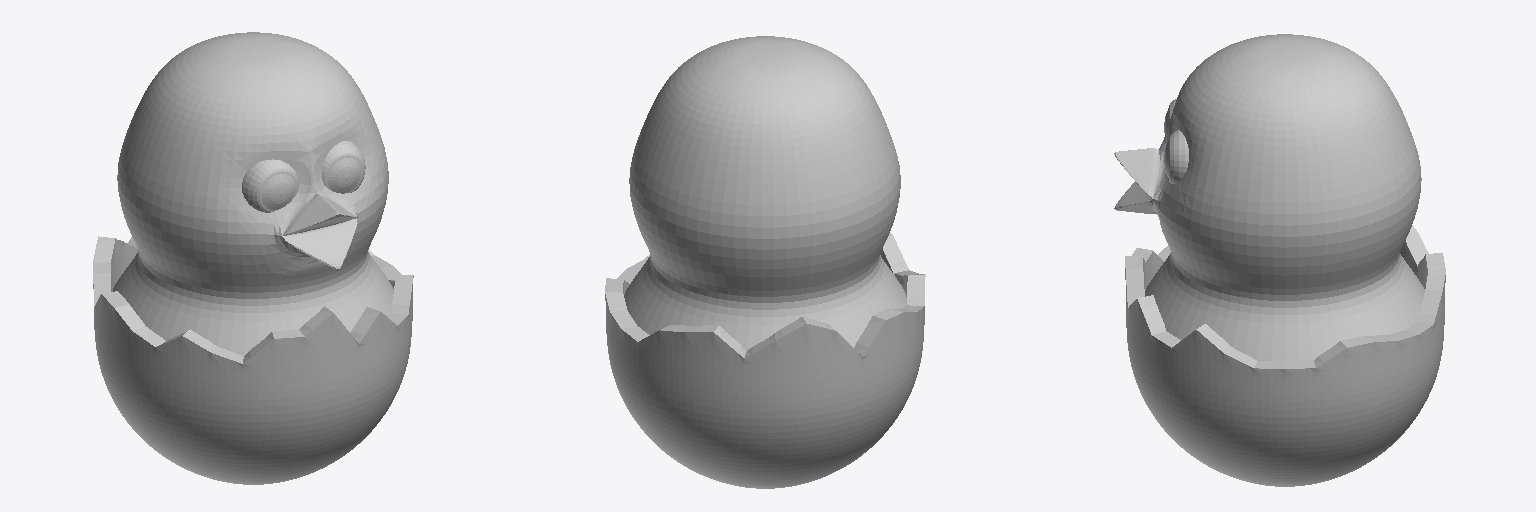
Rendered from egg.obj.
3 views of the same model, side by side, from view 1: azimuth 30°, elevation 25°; view 2: azimuth 150°, elevation 25°; view 3: azimuth 270°, elevation 25° (orthographic).
Visible parts, largest first — view 1: ChickNEgg; view 2: ChickNEgg; view 3: ChickNEgg.
Part boxes in pixels (left/top/right/bottom): ChickNEgg: left=93, top=32, right=413, bottom=484; ChickNEgg: left=605, top=36, right=925, bottom=488; ChickNEgg: left=1114, top=34, right=1445, bottom=486.
Size of the model in its own units: 27.01 by 38.06 by 27.92.